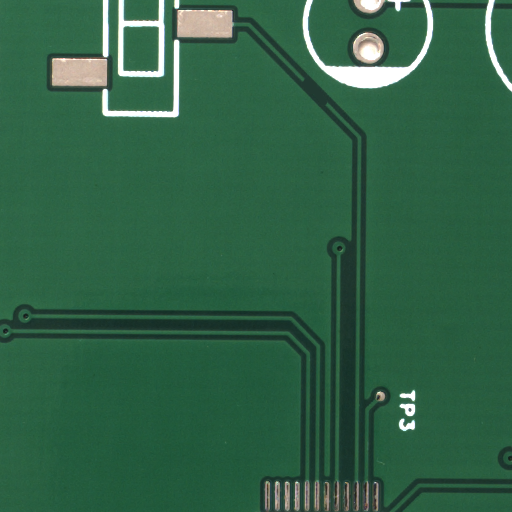Open_circuit: (315, 91, 338, 117)
